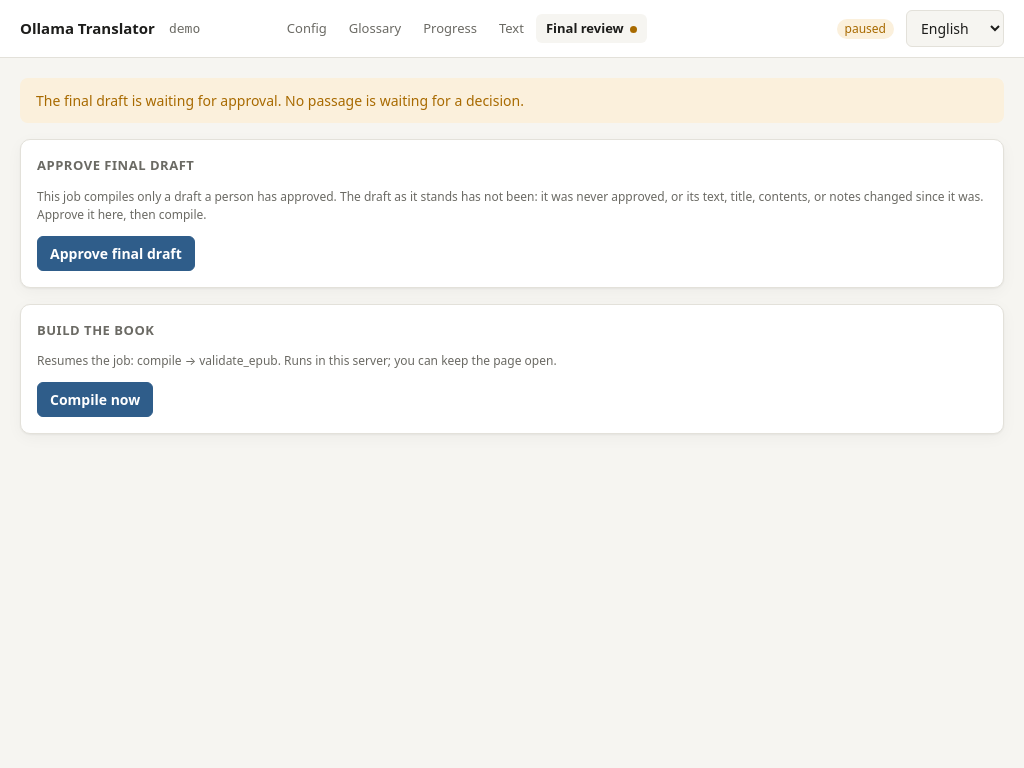
it: Final review tab › when there is nothing to review › approves a draft that waits for it with no passage queued, and can then compile
Expected: the text "The final draft is waiting for approval. No passage is waiting for a decision." is shown, [20, 78, 1004, 123]
Click the button "Approve final draft" at x=116, y=253, box [37, 236, 195, 270]
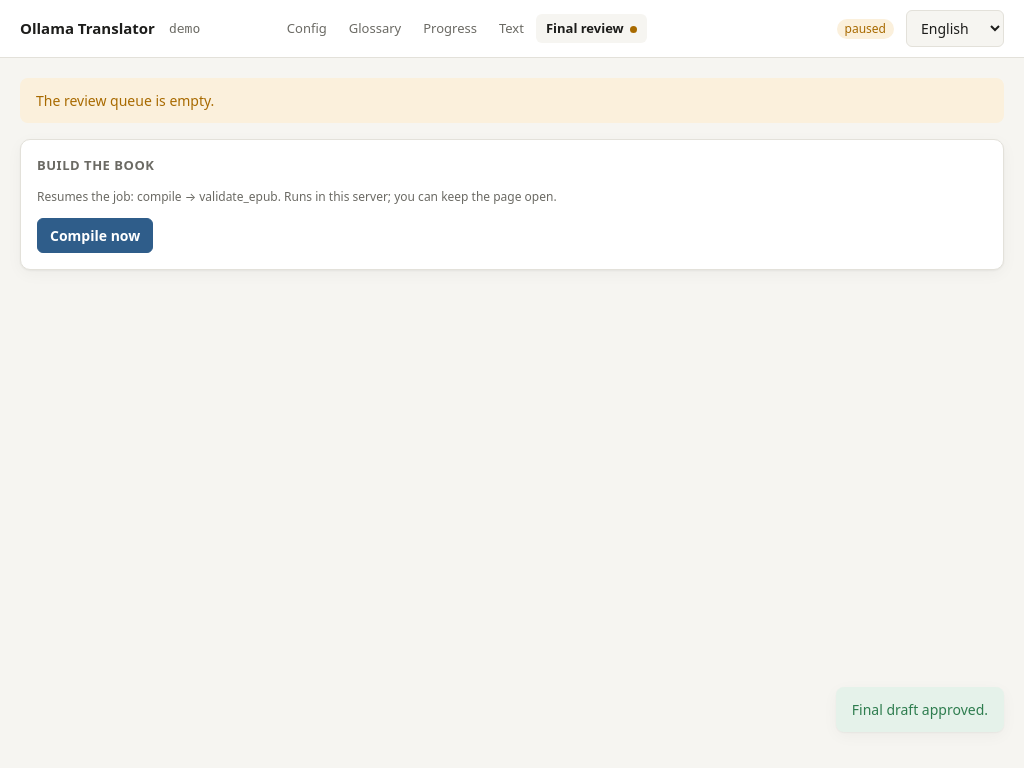
Expected: the text "Final draft approved." is shown, [836, 687, 1004, 732]
Expected: the heading "Approve final draft" is gone
Expected: the text "The review queue is empty." is shown, [20, 78, 1004, 123]
